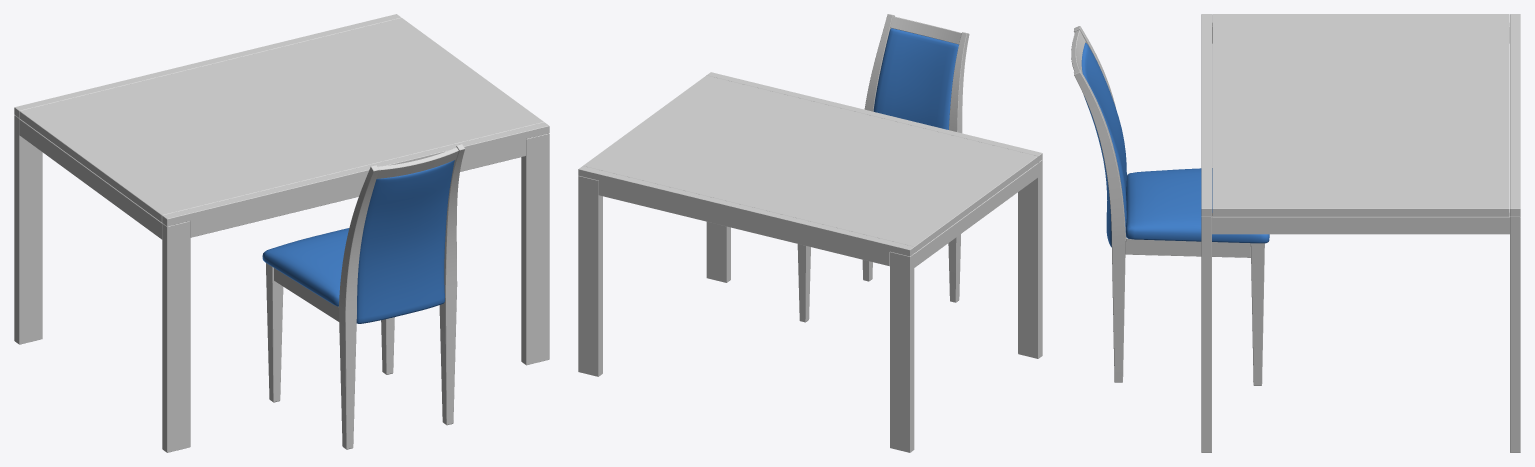
The model's file is Table_NewSmart_FBX.FBX.
The picture shows the model from 3 angles, left to right: view 1: azimuth 30°, elevation 25°; view 2: azimuth 150°, elevation 25°; view 3: azimuth 270°, elevation 25°; orthographic projection. The views are drawn at different scales.
Parts seen in each view (by area): view 1: Table_NewSmart, Chair_001; view 2: Table_NewSmart, Chair_001; view 3: Table_NewSmart, Chair_001.
Boxes of the visible parts, x1,y1,x2,y2 form: Table_NewSmart: [14, 14, 549, 452]; Chair_001: [262, 144, 464, 449]; Table_NewSmart: [578, 72, 1042, 452]; Chair_001: [797, 14, 969, 322]; Table_NewSmart: [1201, 14, 1520, 452]; Chair_001: [1071, 26, 1269, 385].
Bounding box in the file's own units: 1300 × 954 × 1267.
